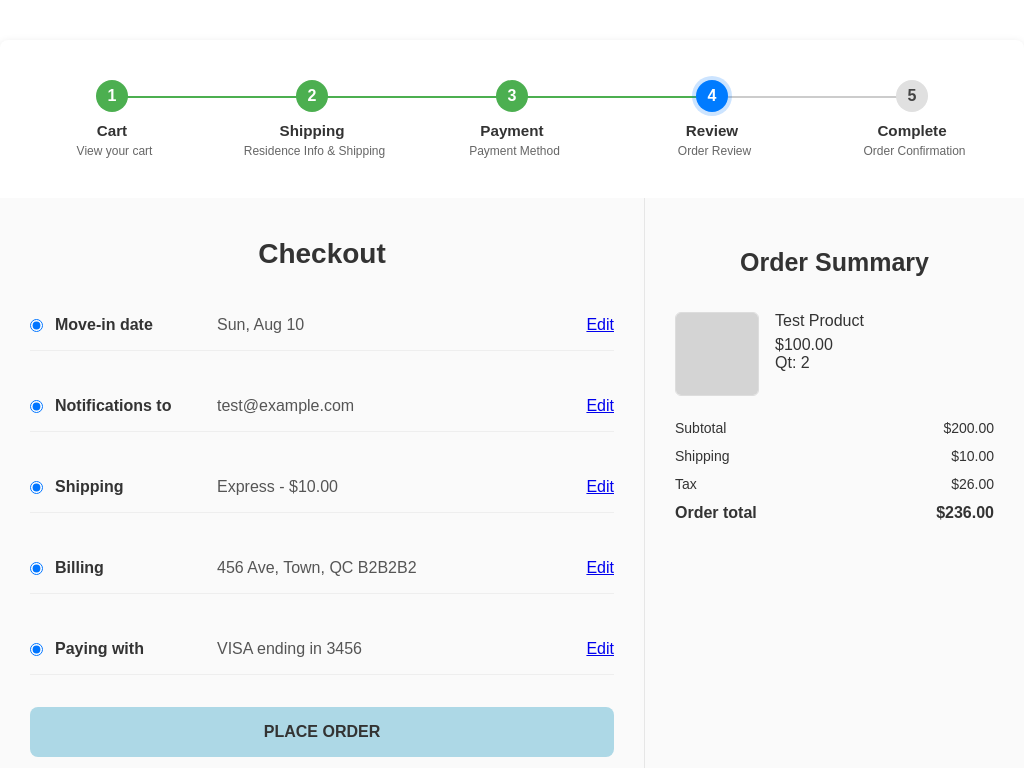
Test: ReviewPage full coverage › handles generic error
Click the button "PLACE ORDER": (322, 732) x1=30 y1=707 x2=614 y2=757
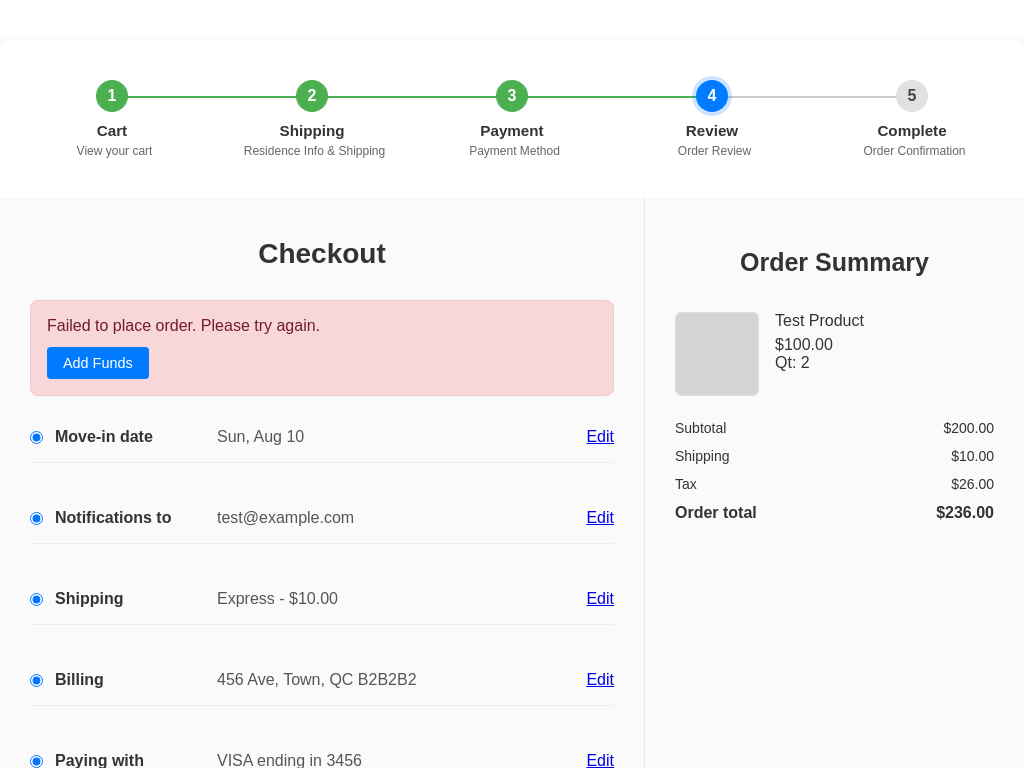
Expected: the text "Failed to place order. Please try again." is shown, x1=47 y1=317 x2=320 y2=334
